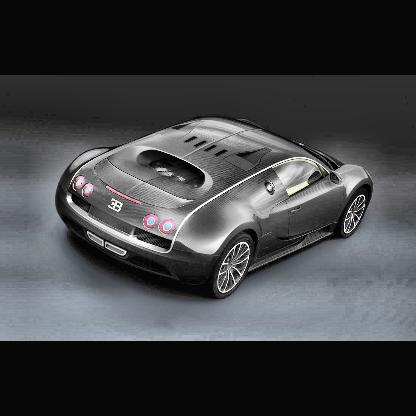Bugatti Veyron 16-4 Coupe 2009: (55, 113, 375, 297)
